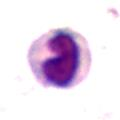monocyte: (27, 26, 93, 89)
